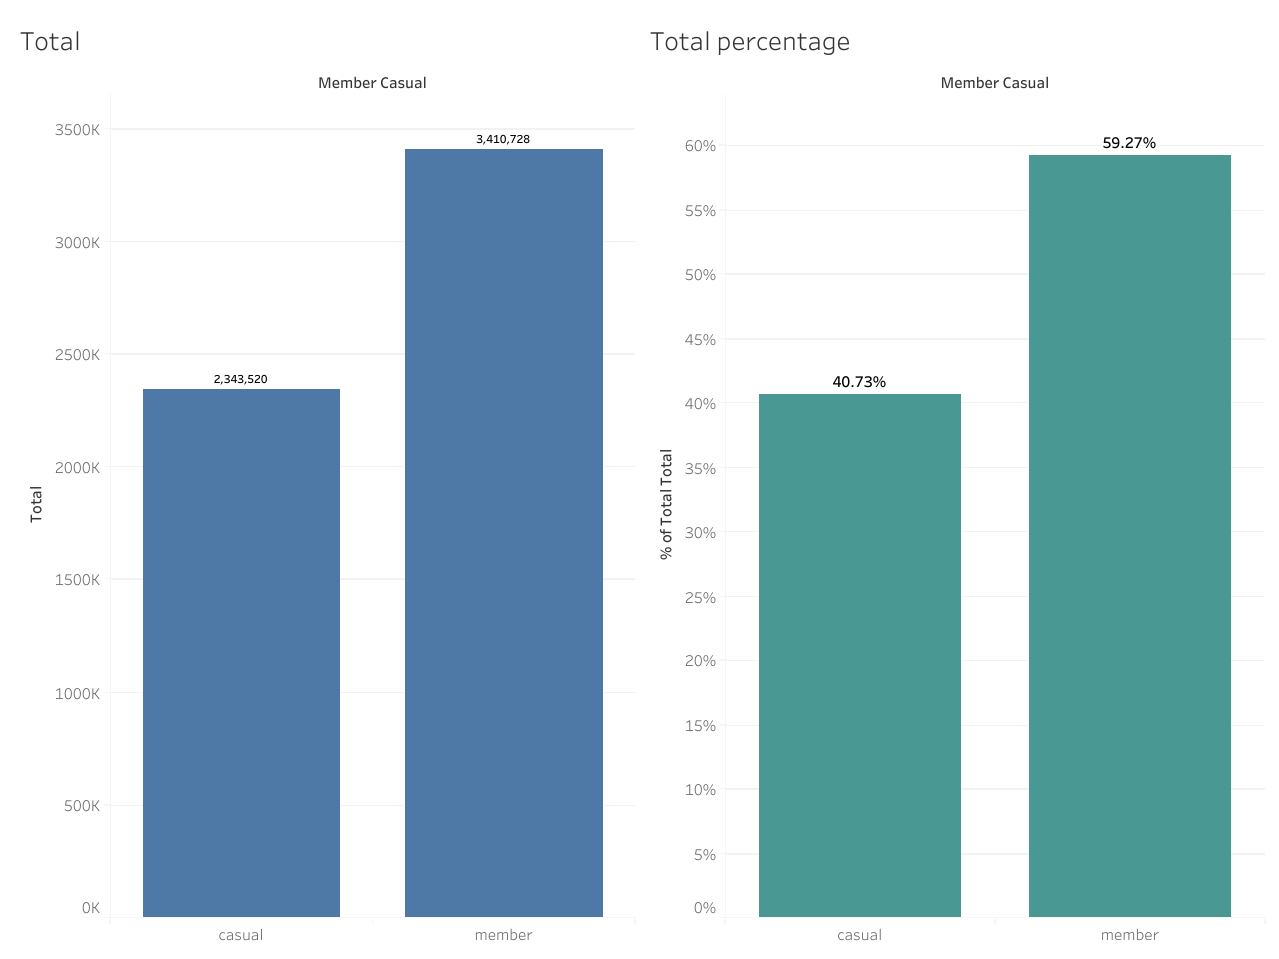

This screenshot's page, from the dashboard's own definition file:
{"tool":"tableau","page":{"name":"Dashboard 1","canvas":[1000,1000],"units":"permille","ordinal":0},"visuals":[{"type":"worksheet","title":"Sheet 1","mark":"Automatic","rows":["total"],"cols":["member_casual"],"box":[4.8,9.3,495.2,981.4]},{"type":"worksheet","title":"Sheet 2","mark":"Automatic","rows":["total"],"cols":["member_casual"],"box":[500,9.3,495.2,981.4]}]}

Visuals, with their boxes on the dashboard's canvas, which has no fixed pixel size, in thousandths of its width and height (x1, y1, x2, y2). These are canvas units, not pixel positions in the 1279x959 screenshot, which may show the page scaled, cropped or inside an application window:
"Sheet 1" worksheet: bbox(5, 9, 500, 991)
"Sheet 2" worksheet: bbox(500, 9, 995, 991)
